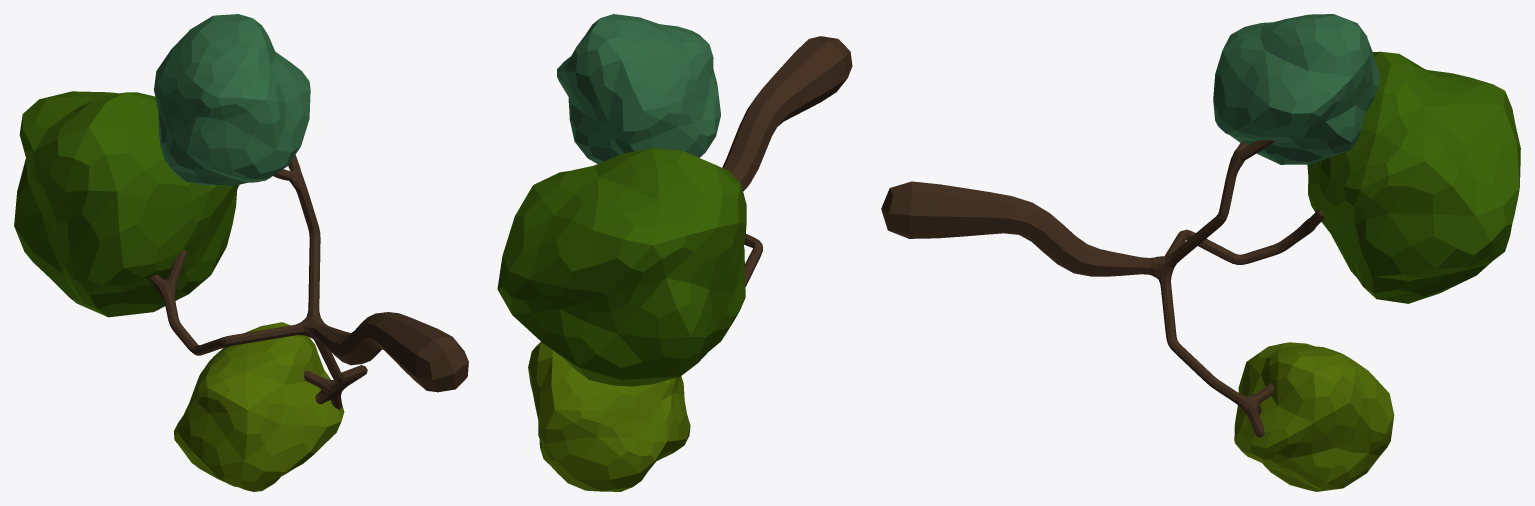
The model's file is Tree_02.fbx.
3 renders of one model, left to right at view 1: azimuth 30°, elevation 25°; view 2: azimuth 150°, elevation 25°; view 3: azimuth 270°, elevation 25°, orthographic.
Visible parts, largest first — view 1: Icosphere; view 2: Icosphere; view 3: Icosphere.
Part boxes in pixels (bbox=[...]): Icosphere: bbox=[14, 14, 468, 491]; Icosphere: bbox=[497, 14, 852, 491]; Icosphere: bbox=[881, 14, 1520, 491].
Bounding box in the file's own units: 242 × 445 × 558.
